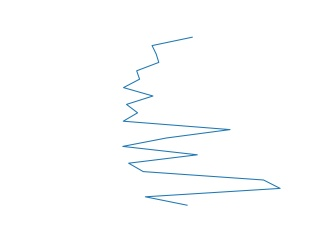crevasseRiverBedLagDeposit: (120, 35, 284, 209)
